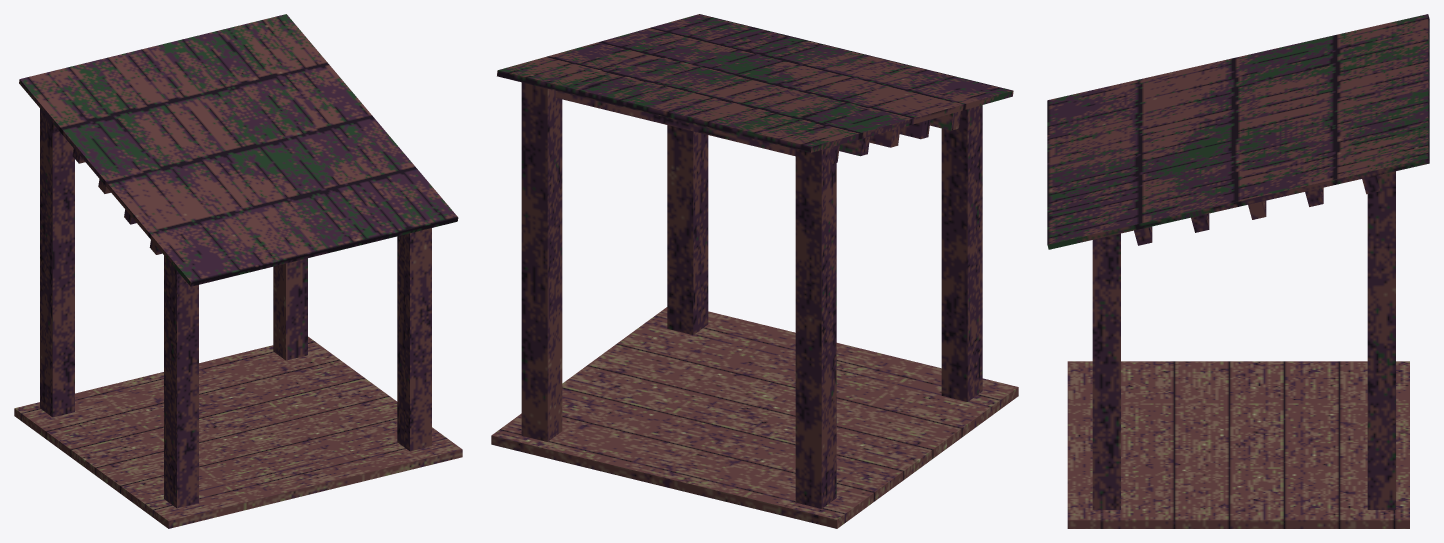
Rendered from CabhineSolotop.fbx.
The picture shows the model from 3 angles, left to right: view 1: azimuth 30°, elevation 25°; view 2: azimuth 150°, elevation 25°; view 3: azimuth 270°, elevation 25°; orthographic projection. The views are drawn at different scales.
Visible parts, largest first — view 1: Material-material.004; view 2: Material-material.004; view 3: Material-material.004.
Part boxes in pixels (bbox=[...]): Material-material.004: bbox=[14, 14, 462, 528]; Material-material.004: bbox=[491, 14, 1018, 528]; Material-material.004: bbox=[1047, 14, 1429, 528].
Bounding box in the file's own units: 368 × 391 × 373.
1 material, 1 textured.
